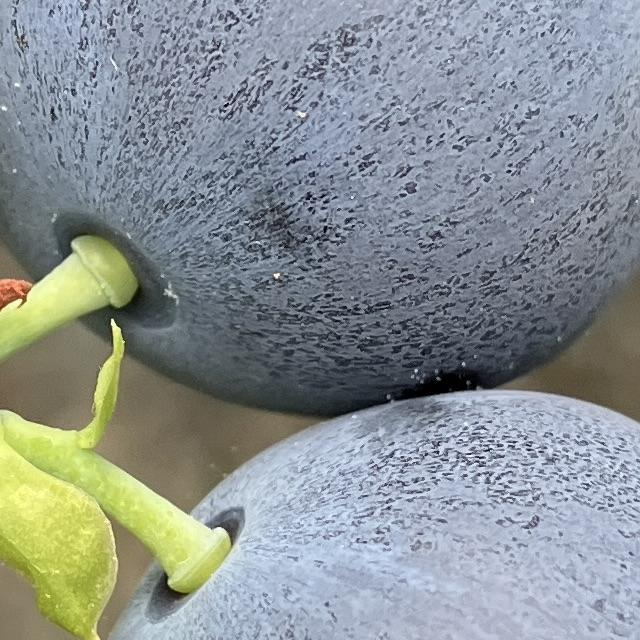Blueberries: (0, 0, 640, 415), (70, 382, 640, 640)
